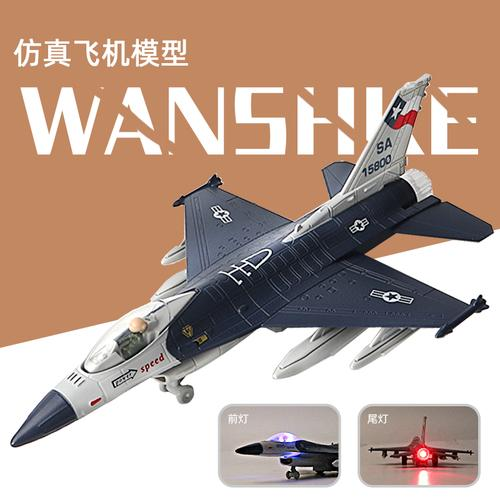airplane: (6, 74, 494, 451)
